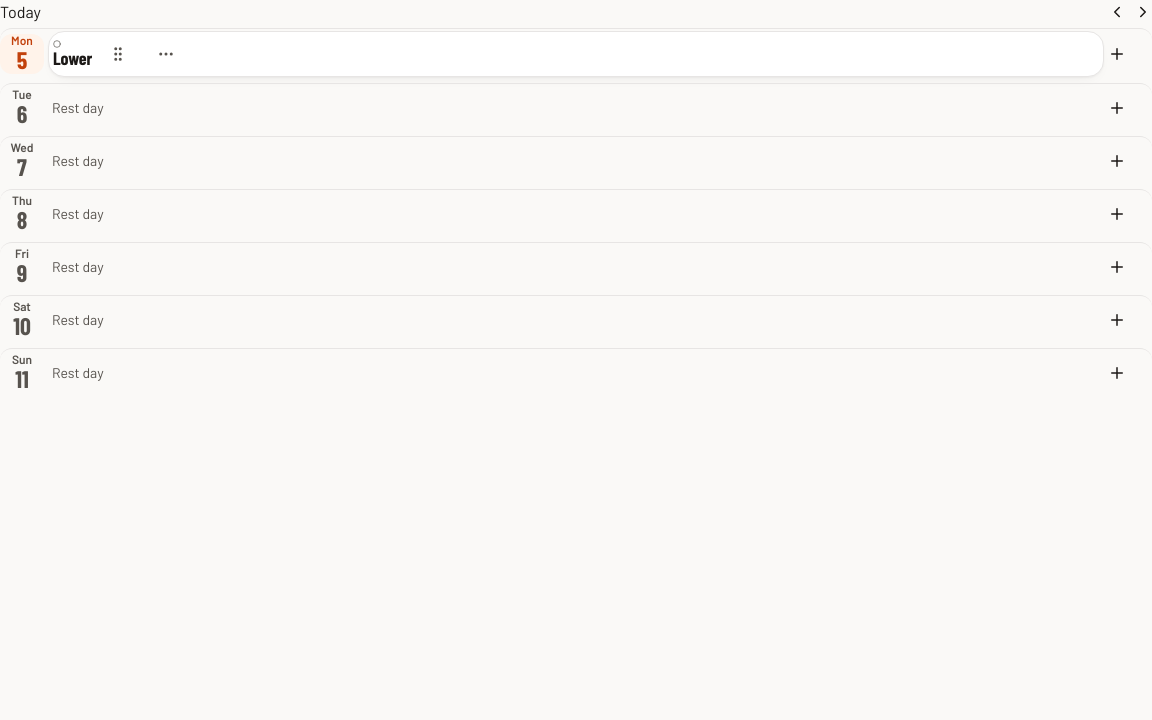
Calendar occupied-date choices › keeps a pending action and later failure visible after button dismissal
Click the button named "More options for Lower" at (166, 54), box [144,32,188,76]
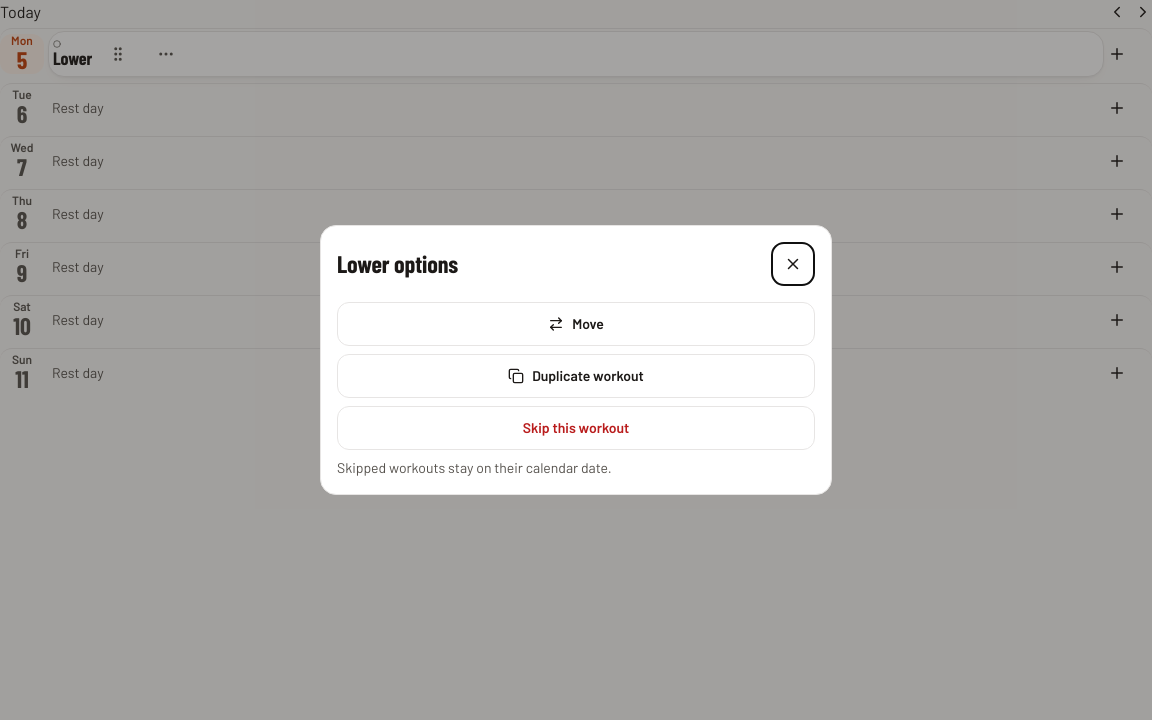
Click the button "Skip this workout" at (576, 428), box [337,406,815,450]
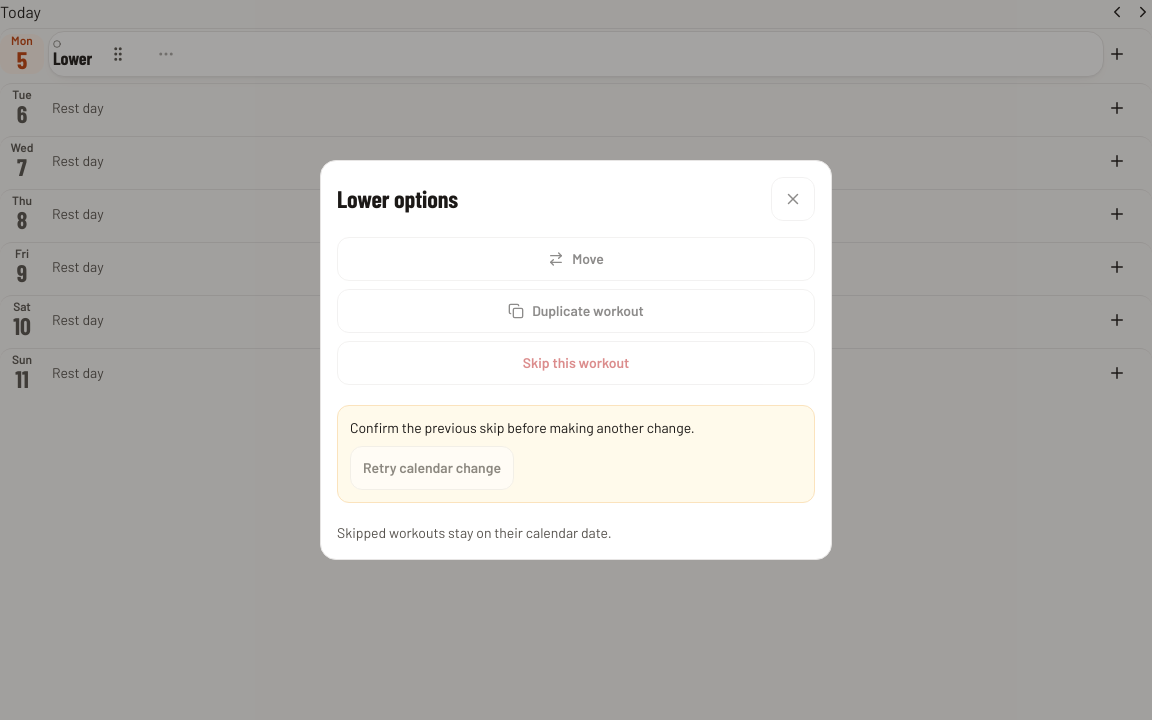
Click the button named "Close calendar action" at (793, 199), box [771,177,815,221]
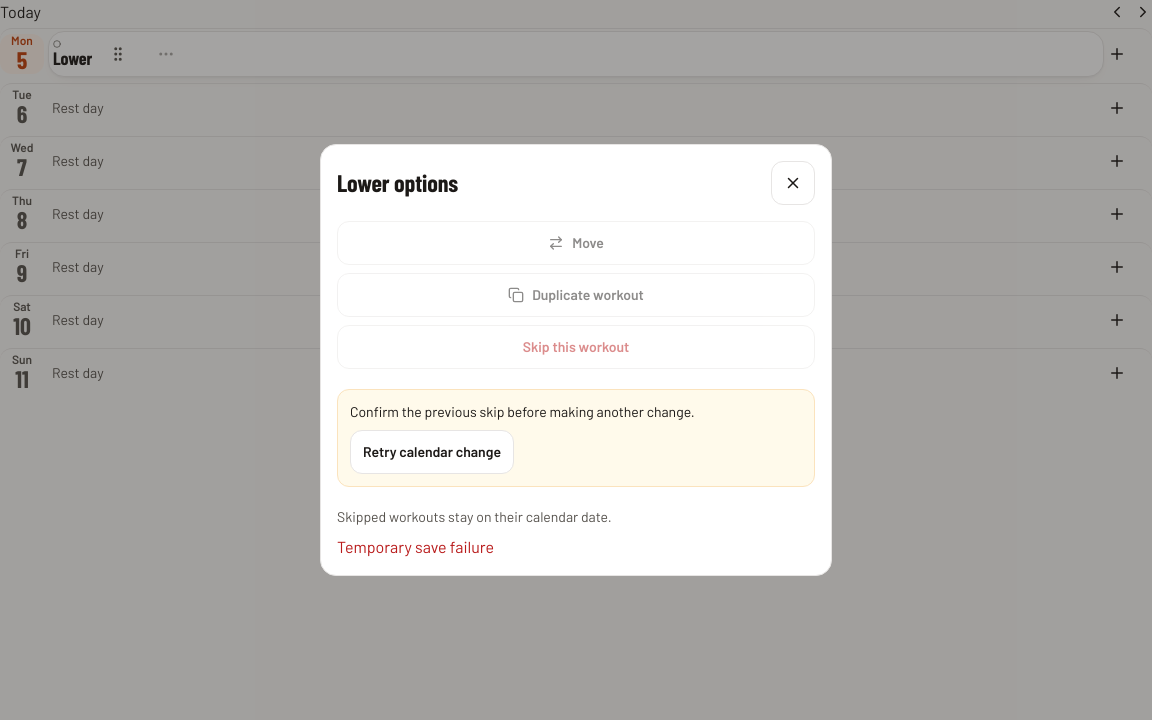
Result: the message reads "Temporary save failure" at [337,537,494,556]
Result: the button "Retry calendar change" is enabled at [350,430,514,474]
